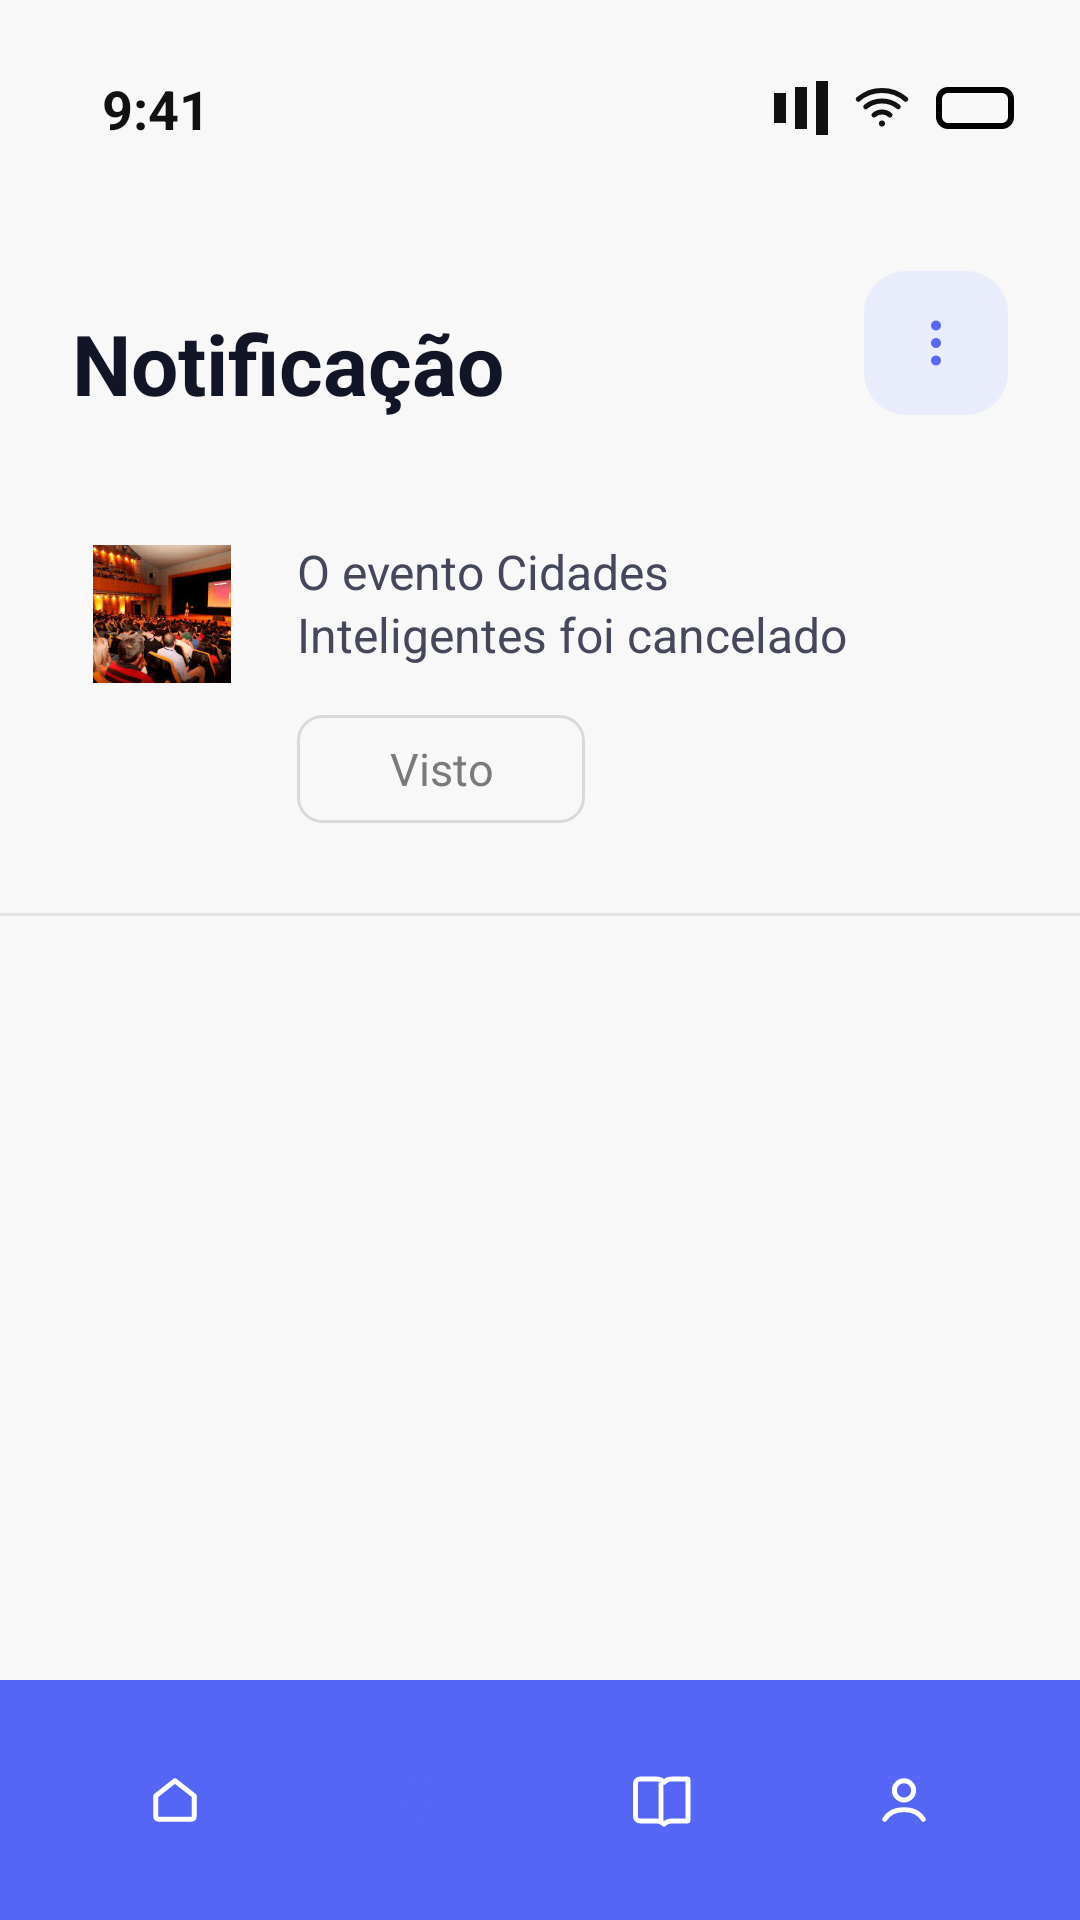

Icons on this 1080px x 1920px Android screen, each with its box as box(x1, y1, x2, y2):
book: box(633, 1776, 691, 1827)
home: box(153, 1778, 197, 1822)
imagem evento: box(93, 545, 231, 683)
user: box(882, 1778, 926, 1822)
vertical: box(931, 320, 941, 366)
wifi: box(855, 88, 909, 127)
